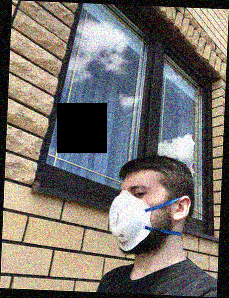with_mask: (107, 181, 159, 255)
